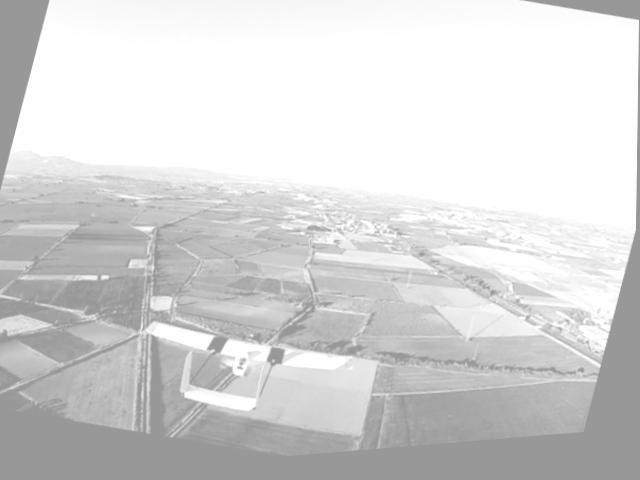hedef: (117, 281, 372, 461)
